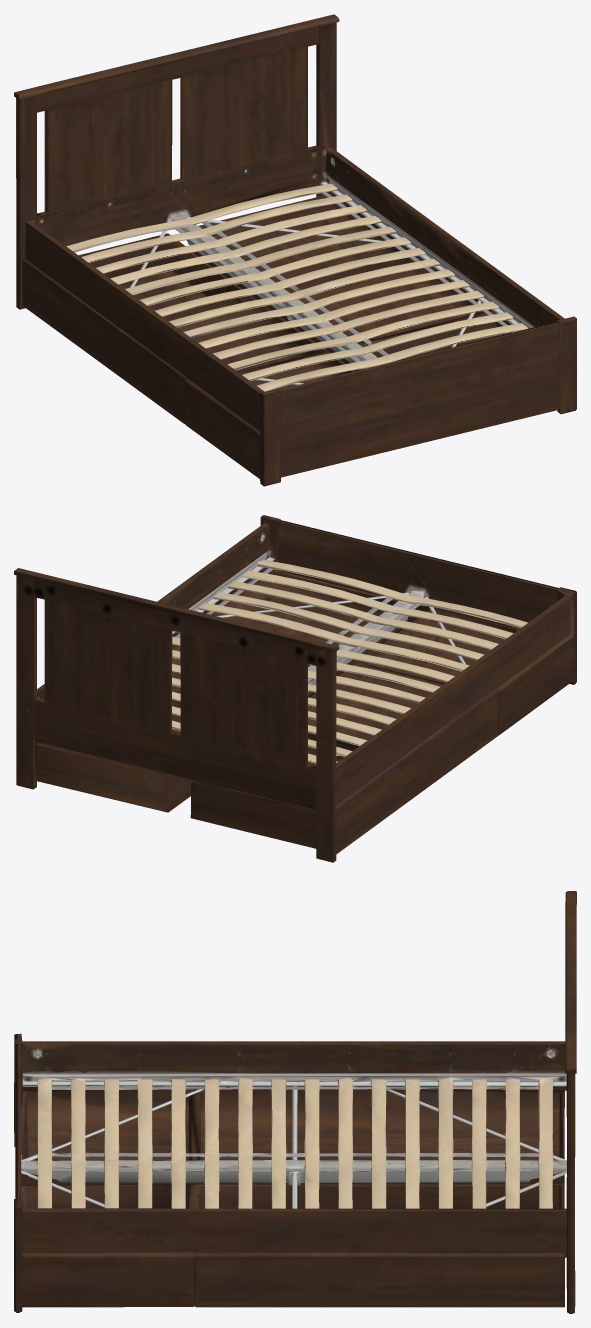
The picture shows the model from 3 angles, top to bottom: view 1: azimuth 30°, elevation 25°; view 2: azimuth 150°, elevation 25°; view 3: azimuth 270°, elevation 25°; orthographic projection. The views are drawn at different scales.
Parts seen in each view (by area): view 1: ProcessedMeshNode; view 2: ProcessedMeshNode; view 3: ProcessedMeshNode.
Part boxes in pixels (bbox=[...]): ProcessedMeshNode: bbox=[14, 14, 576, 486]; ProcessedMeshNode: bbox=[14, 515, 576, 862]; ProcessedMeshNode: bbox=[14, 891, 576, 1313].
Bounding box in the file's own units: 1.47 × 0.9489 × 1.96.
1 material, 1 textured.
